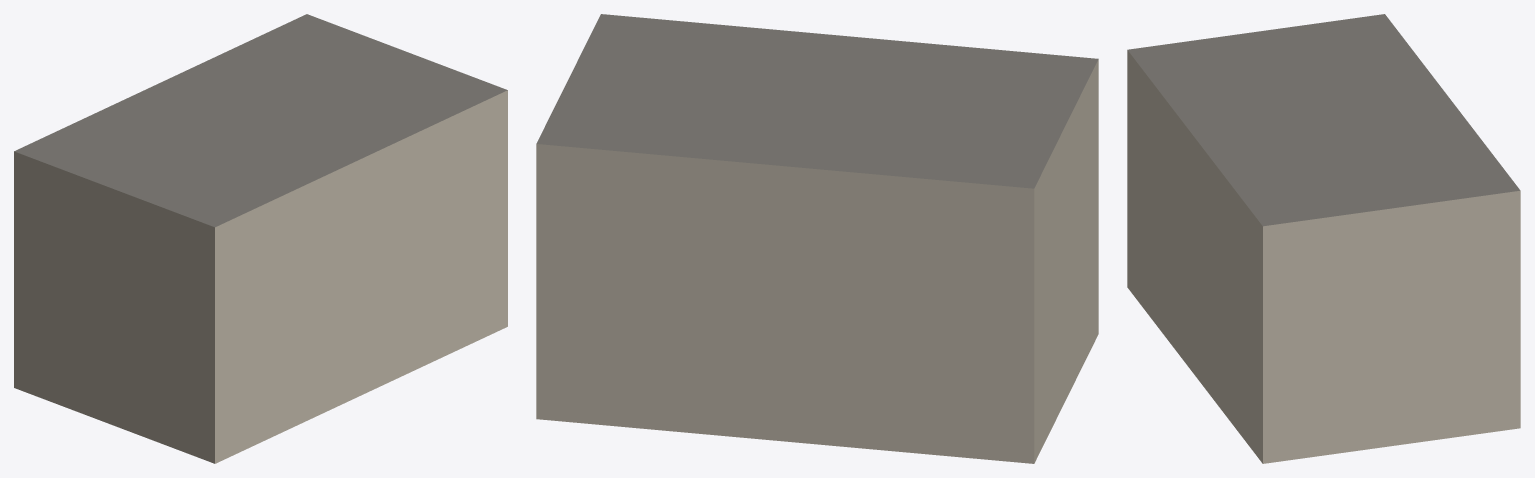
3 renders of one model, left to right at view 1: azimuth 30°, elevation 25°; view 2: azimuth 150°, elevation 25°; view 3: azimuth 270°, elevation 25°, orthographic. The views are drawn at different scales.
Visible parts, largest first — view 1: HP-w1286965200; view 2: HP-w1286965200; view 3: HP-w1286965200.
Boxes of the visible parts, <box> form: HP-w1286965200: <box>14,14,507,463</box>; HP-w1286965200: <box>536,14,1098,463</box>; HP-w1286965200: <box>1127,14,1520,463</box>.
Bounding box in the file's own units: 34.49 × 18 × 27.
